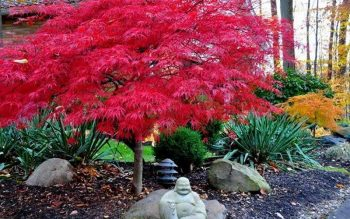tree: (1, 1, 285, 196)
